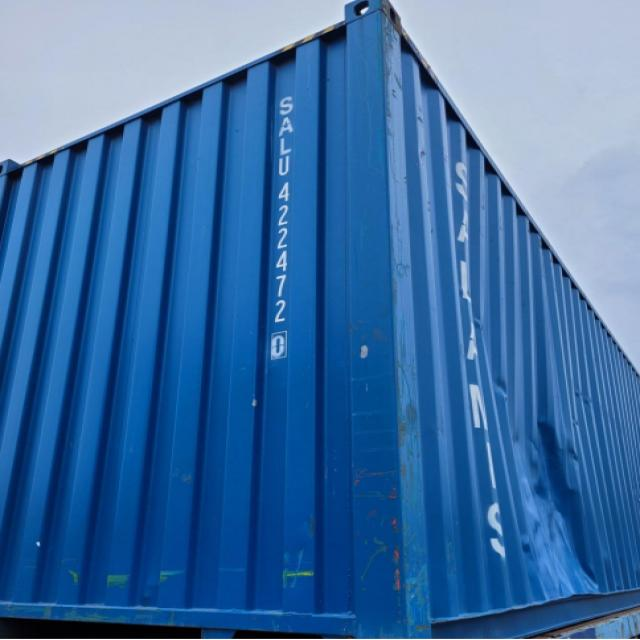dent: (463, 334, 617, 602)
